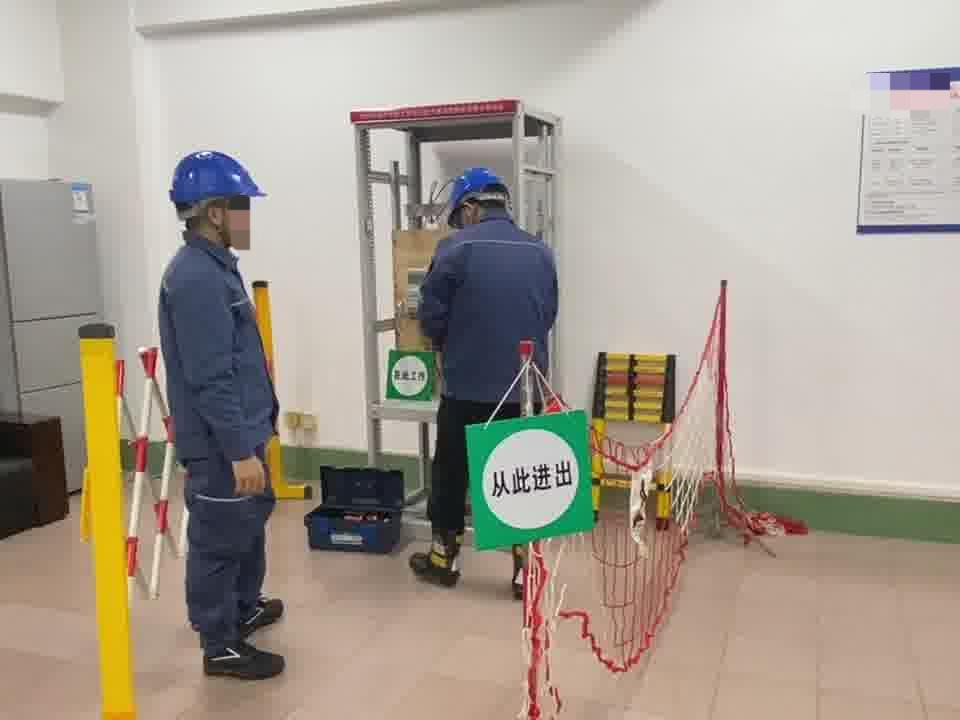halt: (171, 151, 268, 251), (448, 172, 514, 230)
inear: (196, 199, 236, 238)
